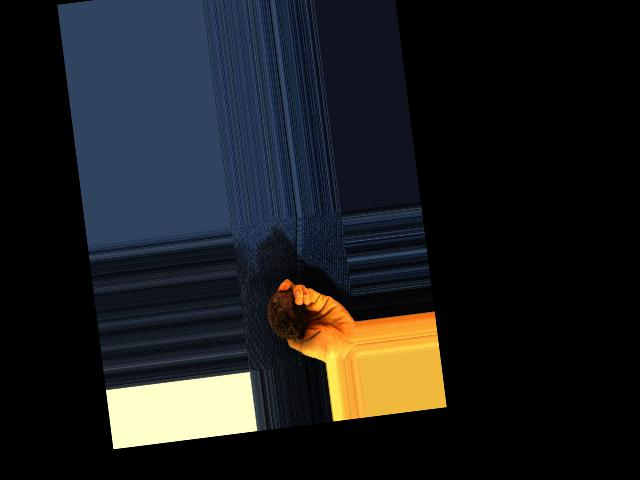beet: (265, 285, 322, 346)
